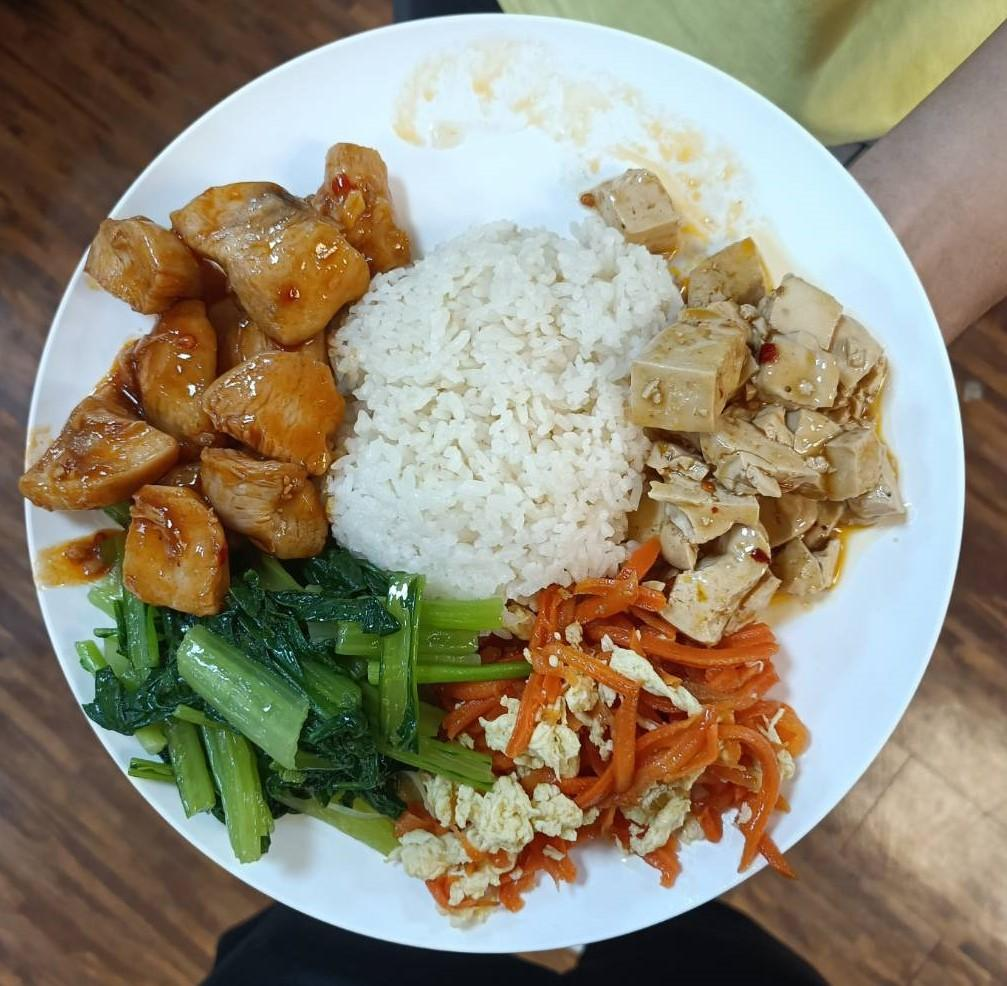big fried chicken leg: (10, 14, 988, 961)
big herbal chicken leg: (324, 222, 684, 609)
braised fish fillet: (406, 604, 800, 918), (627, 254, 904, 635), (111, 533, 449, 836)
braised pork: (46, 142, 408, 608)
